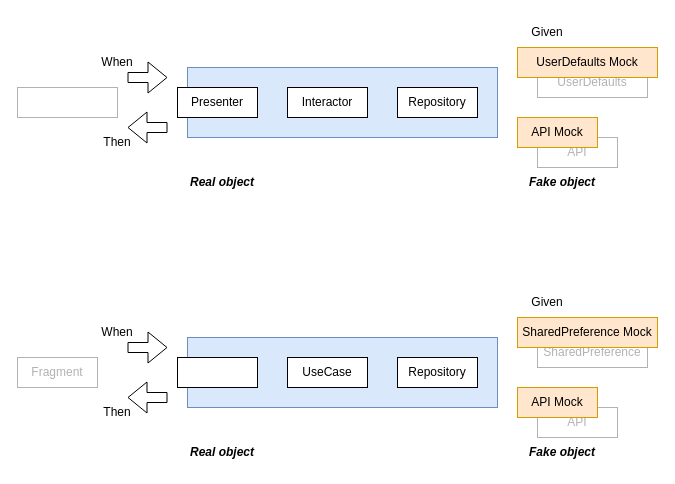
Image size: 675x484. Some labels were removed from this diagram. The centre of each missing label's shape, as x and y in pixels:
ViewController: pixel 67 102
ViewModel: pixel 217 372
